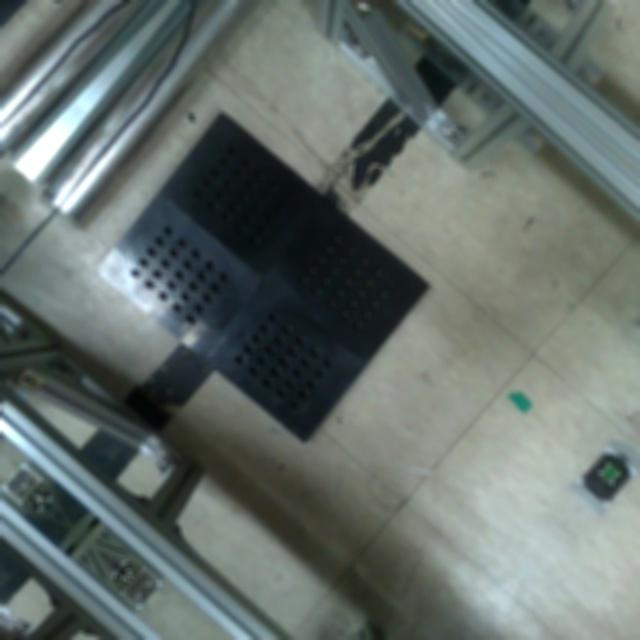pallet: (83, 101, 444, 455)
